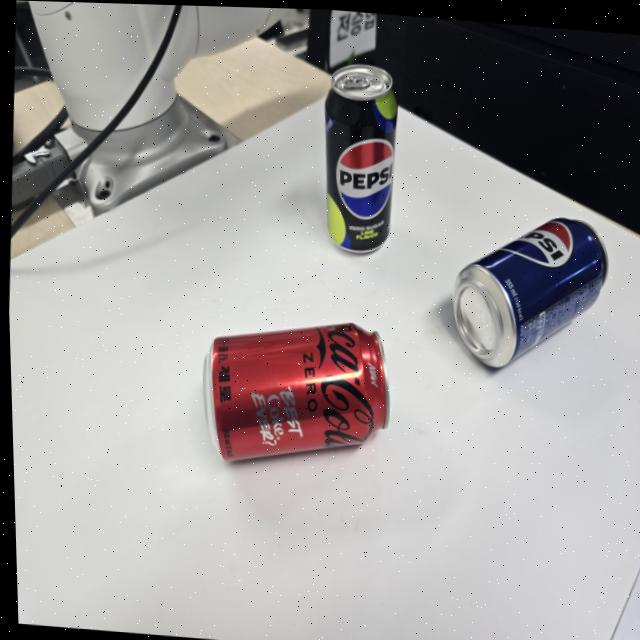can_coke_zero: (204, 324, 389, 461)
can_pepsi: (453, 218, 608, 367)
can_pepsi_zero: (325, 65, 397, 253)
